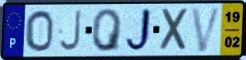J: (124, 7, 154, 55), (58, 8, 83, 53)
O: (24, 9, 55, 53)
Q: (91, 7, 125, 54)
V: (190, 5, 224, 54)
X: (159, 7, 190, 53)
